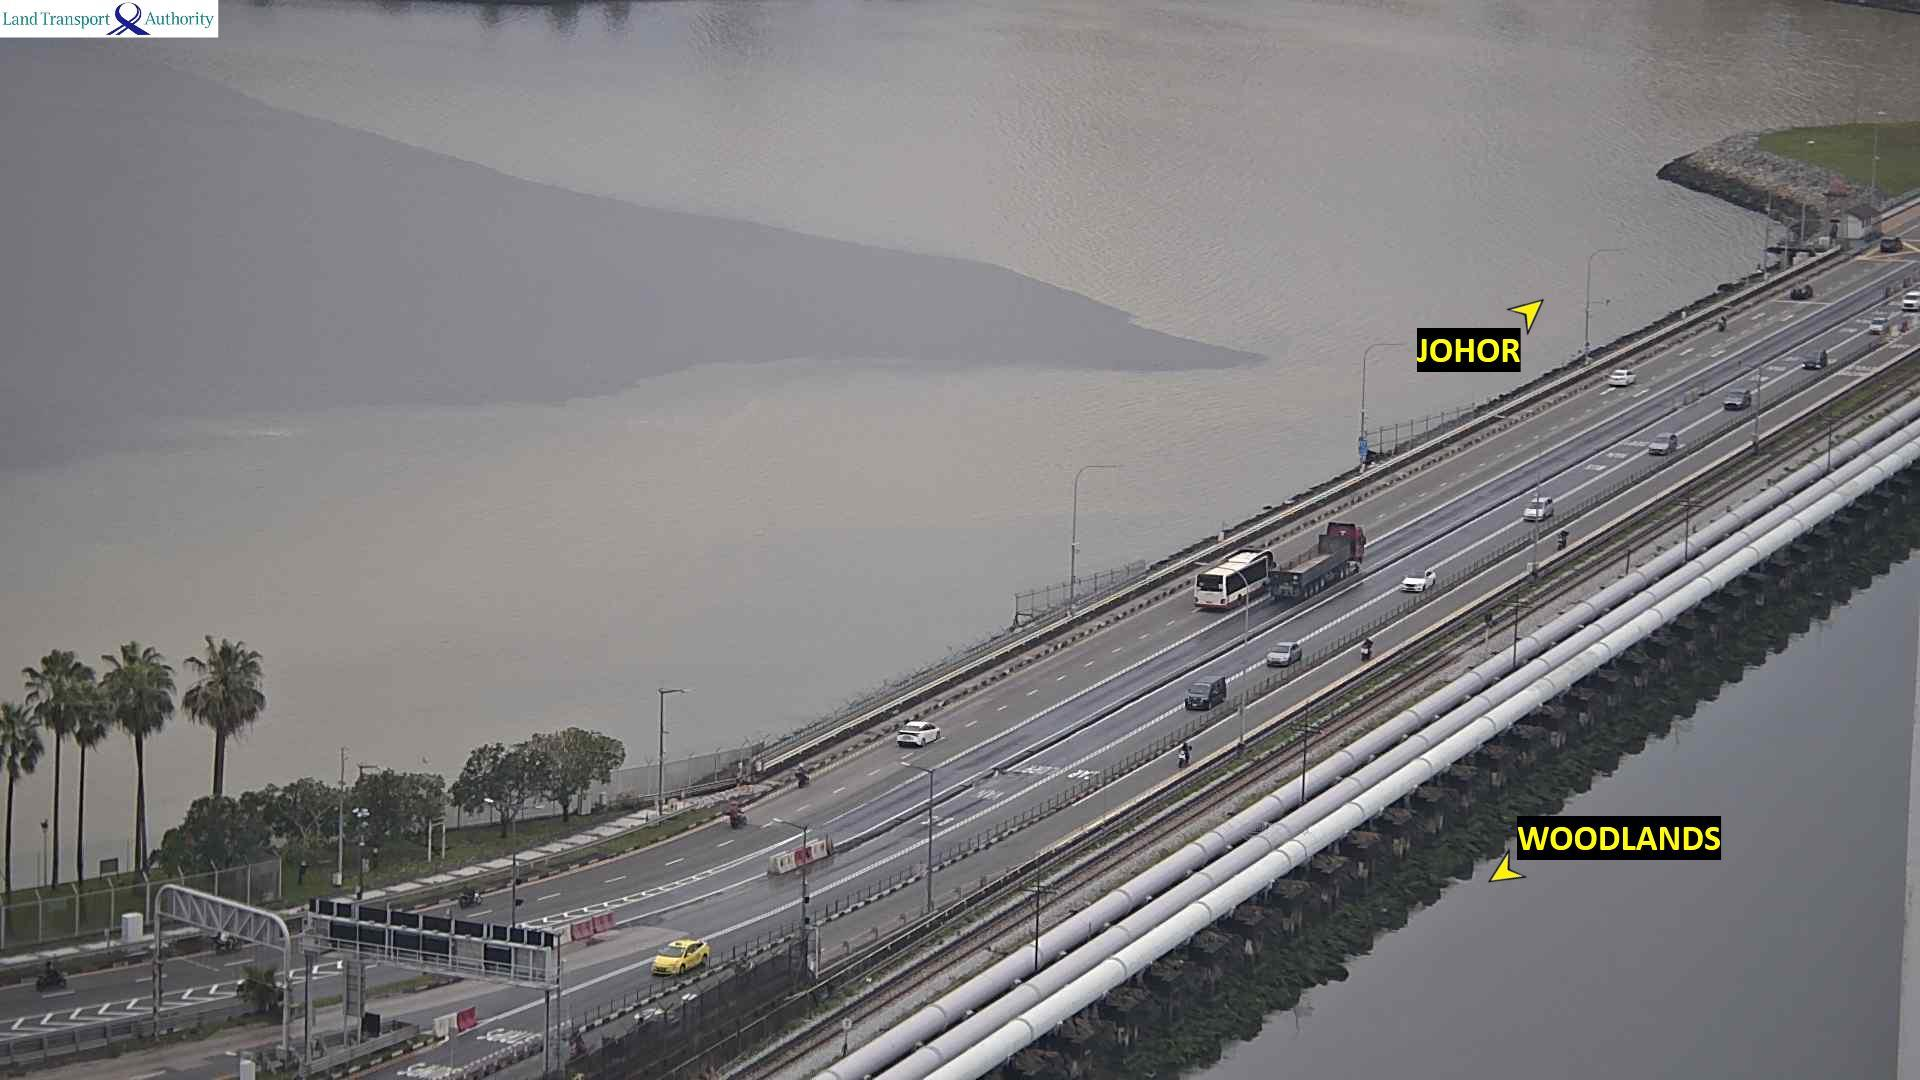vehicle-causeway-johor: (1276, 525, 1365, 599), (1193, 549, 1273, 605), (899, 723, 944, 746), (41, 963, 70, 992), (455, 885, 479, 907), (215, 934, 239, 952), (1609, 369, 1635, 385), (729, 803, 745, 827), (1879, 239, 1904, 252), (1791, 284, 1813, 298), (796, 764, 808, 787), (1717, 315, 1727, 330)
vehicle-causeway-singapore: (647, 940, 709, 975), (1184, 676, 1225, 709), (1400, 568, 1436, 591), (1267, 642, 1302, 665), (1523, 497, 1549, 521), (1650, 433, 1677, 454), (1724, 389, 1751, 409), (1803, 348, 1826, 369), (1174, 742, 1192, 767), (1903, 293, 1920, 313), (1871, 316, 1887, 334), (1361, 638, 1373, 661), (1556, 530, 1567, 549)
